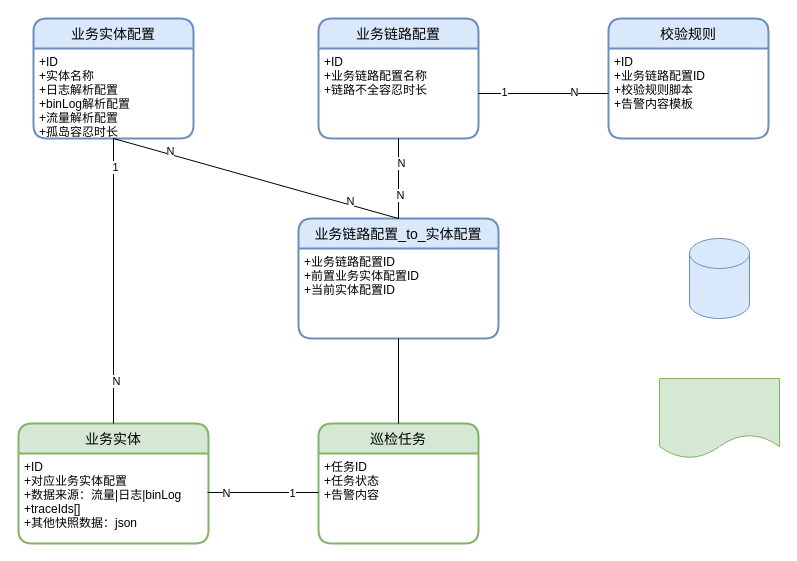
Some shapes in this 797 by 561 pixel diagram are drawn without their labels. Each missing label, with the centre of its shape:
"ES" belongs at [719,418].
"mysql" belongs at [719,278].
